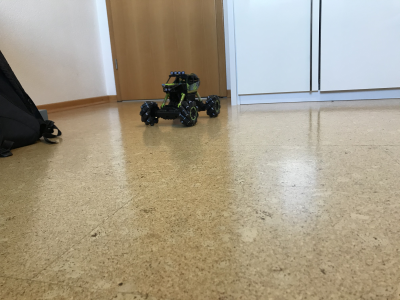remote control car: (136, 68, 224, 129)
